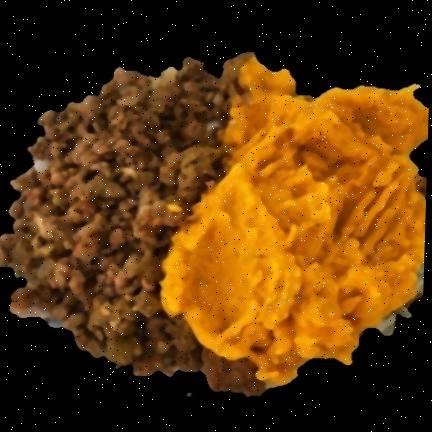meat: (0, 58, 263, 394)
